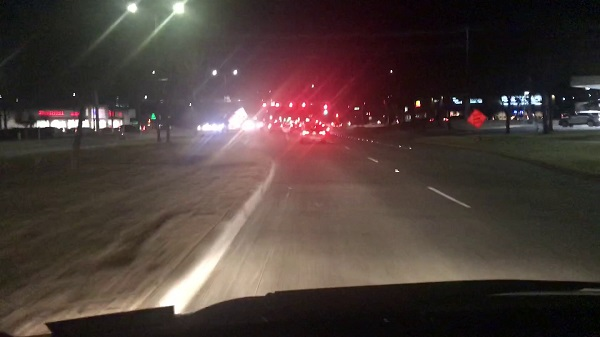car: (299, 122, 326, 142), (268, 119, 285, 135)
